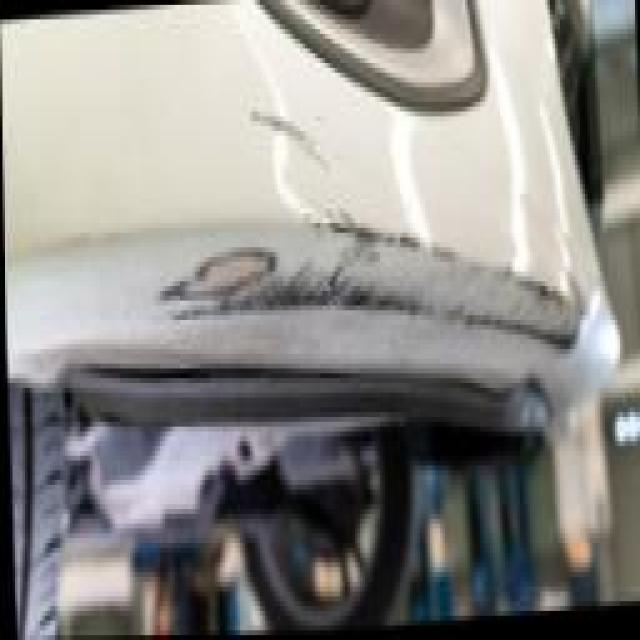Bumper: (38, 82, 600, 400)
